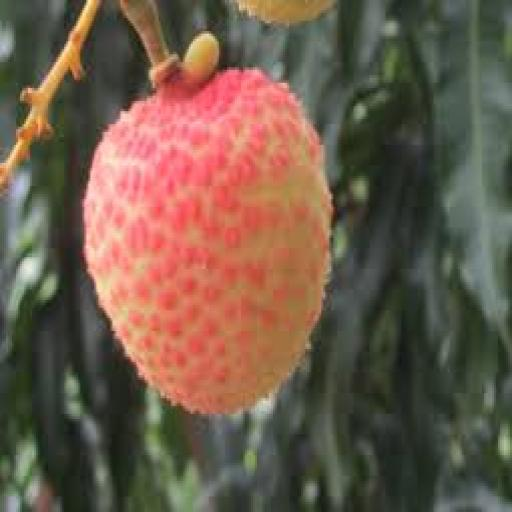lychee: (85, 70, 331, 413), (237, 0, 333, 23)
